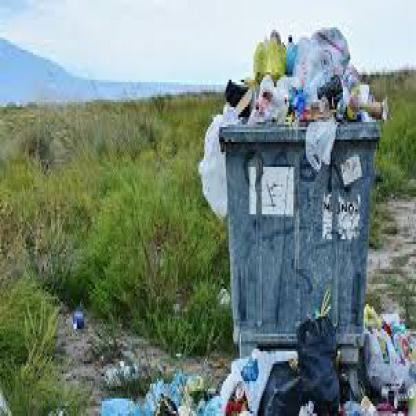Garbage: (210, 20, 395, 124), (365, 288, 415, 414), (86, 376, 216, 414), (301, 307, 346, 414), (302, 22, 361, 98), (253, 356, 310, 414), (198, 110, 226, 214), (222, 366, 266, 414), (249, 38, 284, 78), (306, 127, 335, 167)
